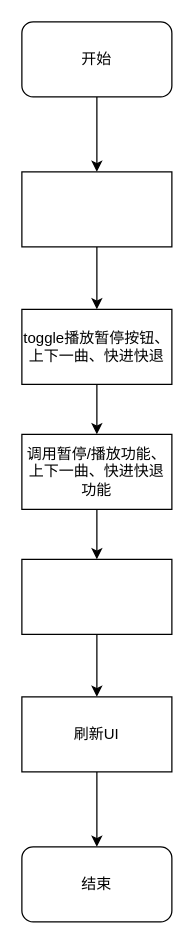
Image size: 194x944. Some labels were removed from this diagram. The shapes that lost their labels are listed below. From the top down, each one's centre as x and y in pixels, then its label:
At point 96,209: "已有音乐播放信息".
At point 96,596: "回调暂停/播放状态、歌曲信息切换、进度变化".
